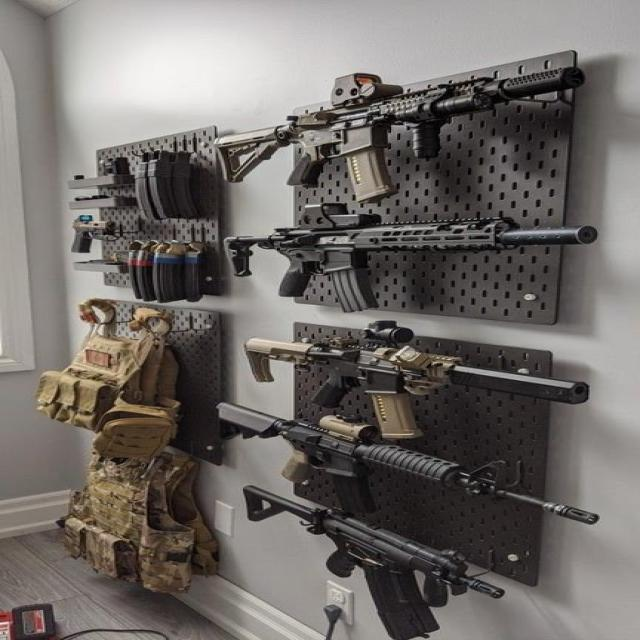Rifle: (218, 52, 561, 201), (219, 403, 601, 525), (227, 197, 599, 313), (244, 321, 591, 440), (247, 485, 505, 640)
